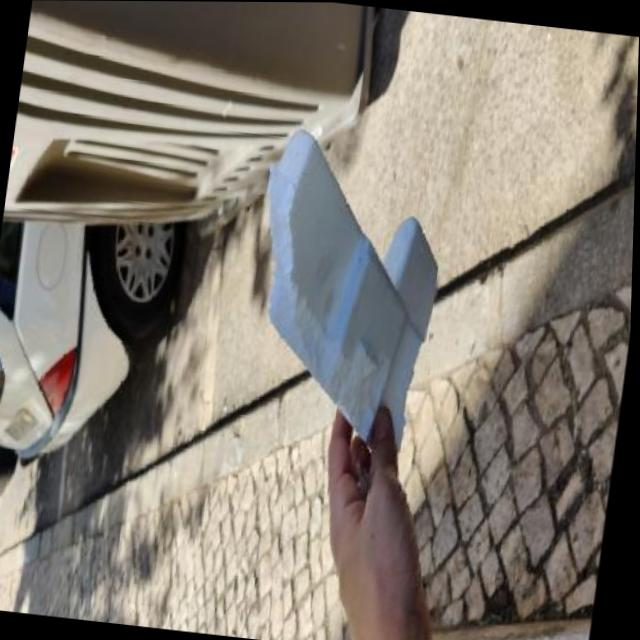foam: (232, 117, 463, 460)
